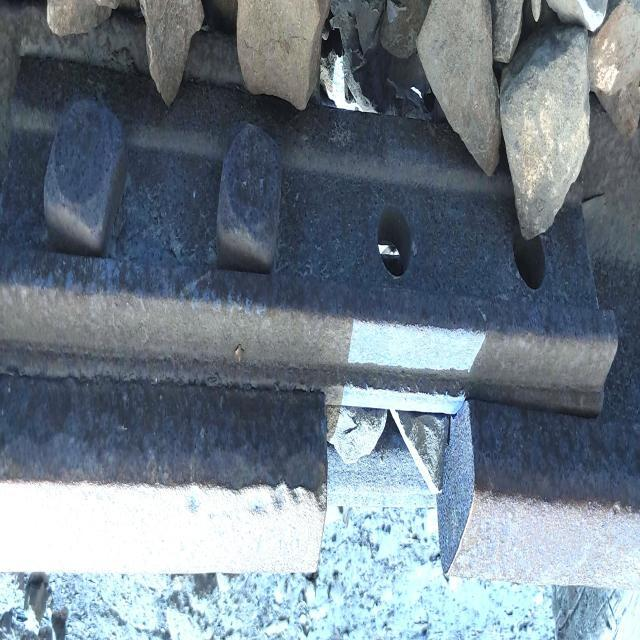Defective Joint: (1, 56, 615, 418)
